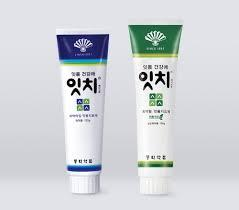toothpaste: (126, 18, 188, 197), (47, 23, 109, 200)
